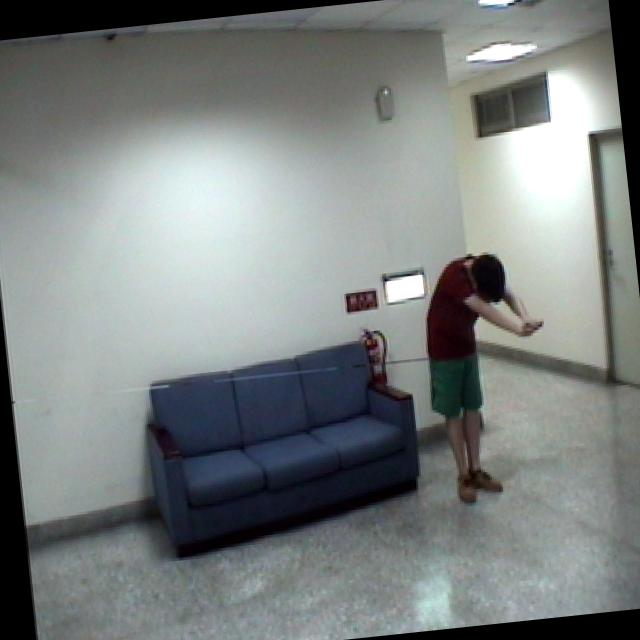bend: (406, 237, 568, 512)
